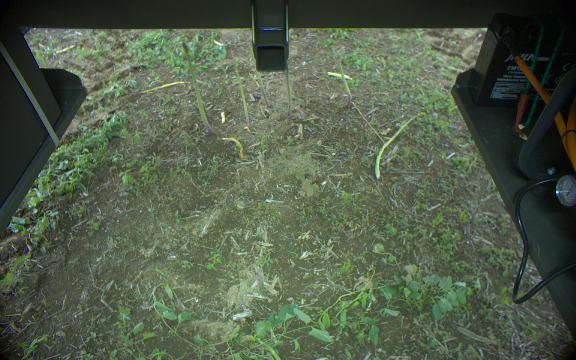aspa: (179, 42, 212, 135), (225, 53, 251, 131), (249, 46, 268, 106), (334, 50, 353, 110), (278, 53, 294, 115)
